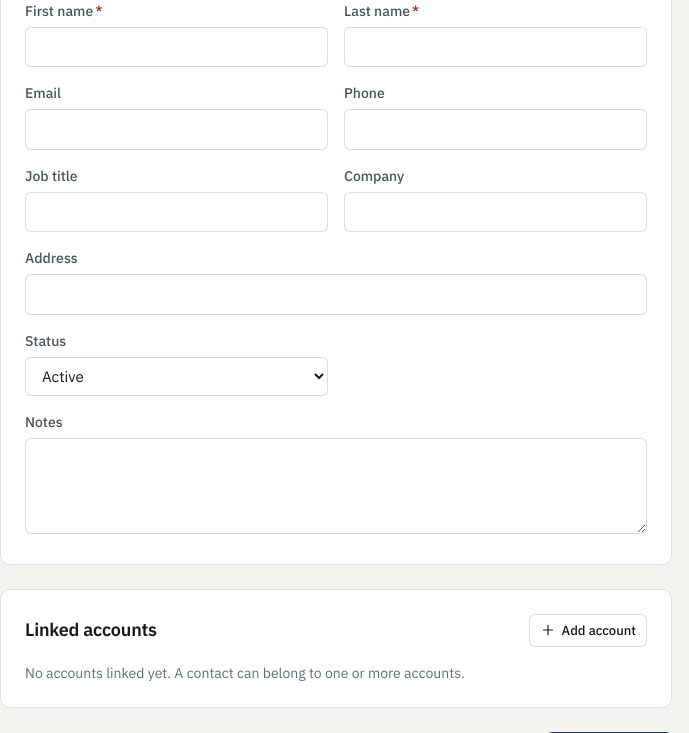
Test: ContactFormPage › account links › adds a row defaulted to primary and removes it again
(page scrolled)
Click the button "Add account" at (588, 630), box [529,614,647,647]
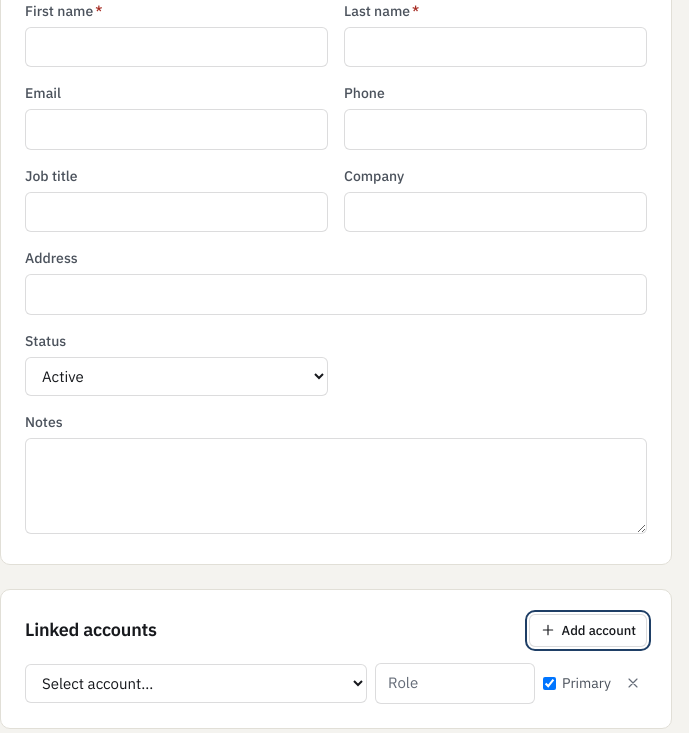
Expected: the dropdown named "Account" shows "Select account…", [25,664,367,703]
Expected: the field named "Role at account" is empty, [375,663,535,704]
Expected: the checkbox labelled "Primary" is checked, [543,677,556,690]
Click the button named "Remove account link" at (633, 683), box [619,669,647,697]
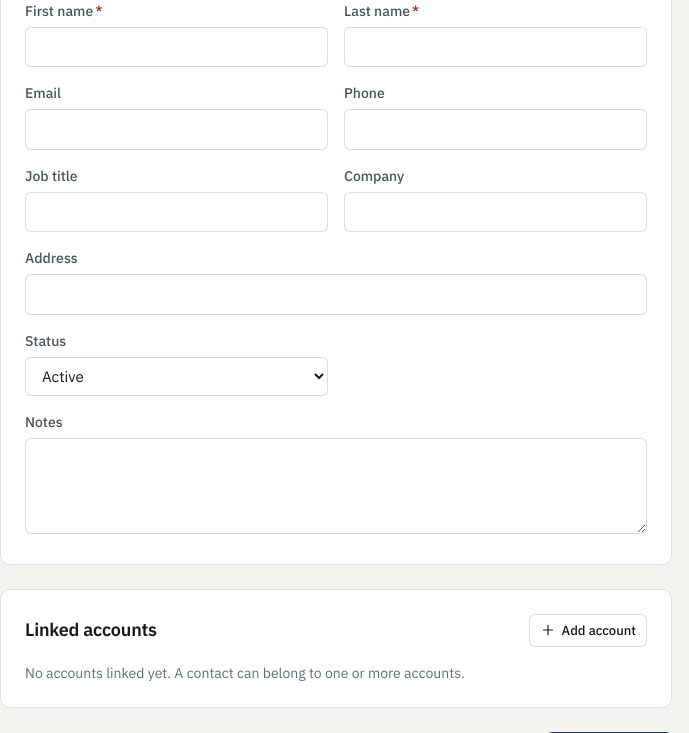
Expected: the text "No accounts linked yet. A contact can belong to one or more accounts." is shown, [25,664,465,682]
